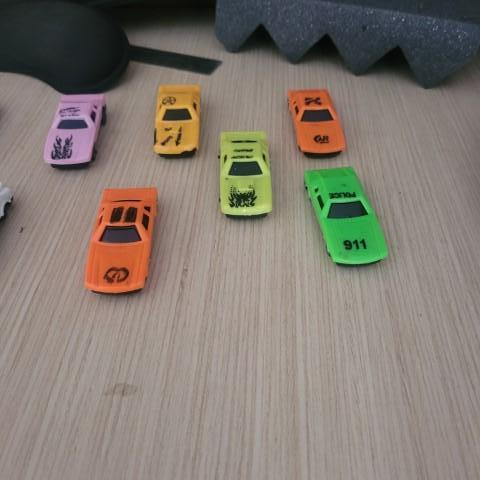car: (301, 161, 394, 272), (78, 183, 164, 301), (217, 127, 276, 222), (42, 88, 107, 174), (286, 81, 350, 160), (150, 79, 205, 162)
